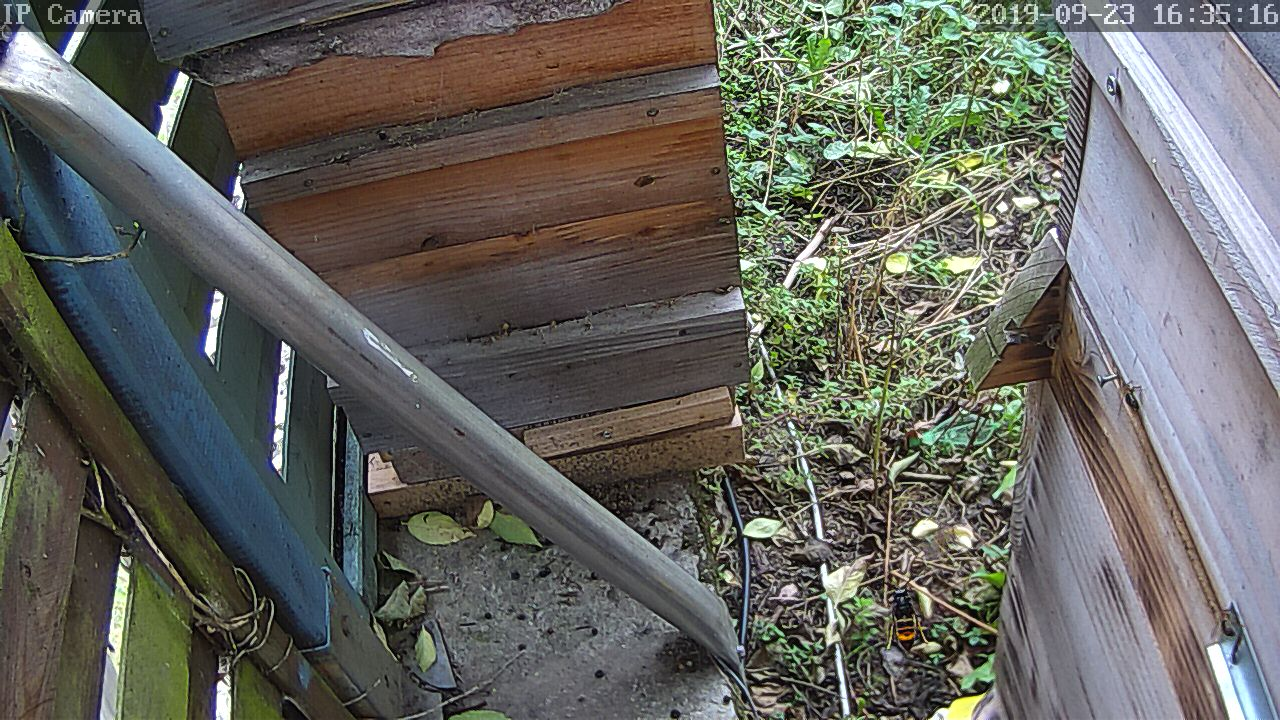bee: (1114, 377, 1147, 417), (1210, 605, 1238, 638)
hornet: (878, 583, 936, 648)
